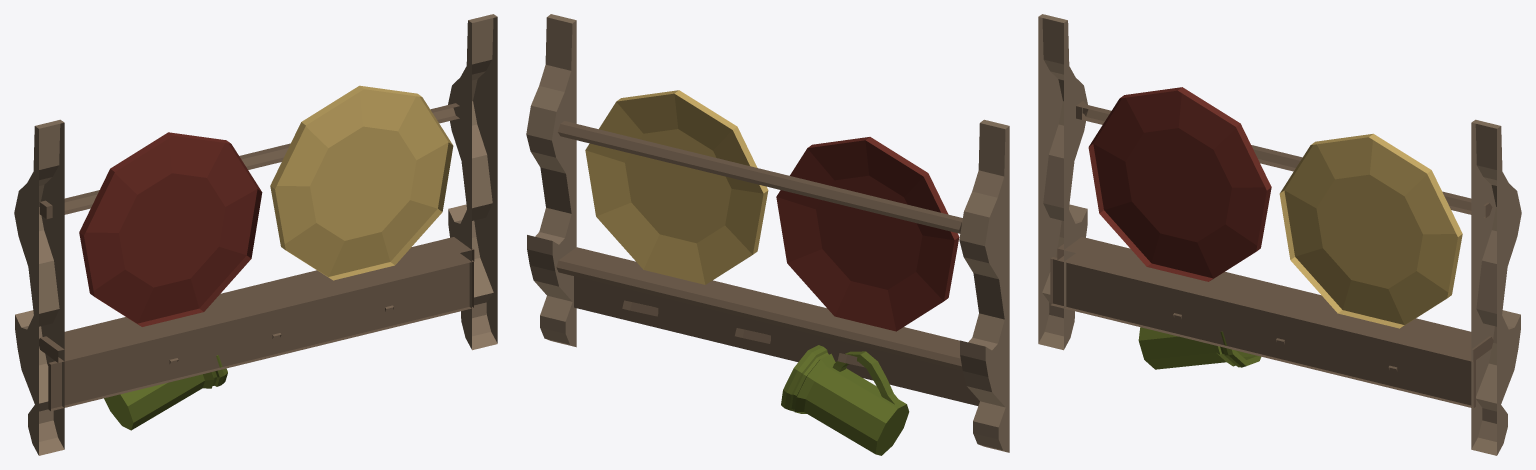
Rendered from EA03_Prop_House_Shelf_01g.glb.
The picture shows the model from 3 angles, left to right: view 1: azimuth 30°, elevation 25°; view 2: azimuth 150°, elevation 25°; view 3: azimuth 330°, elevation 25°; orthographic projection.
Parts seen in each view (by area): view 1: EA03_Prop_House_Shelf_01g; view 2: EA03_Prop_House_Shelf_01g; view 3: EA03_Prop_House_Shelf_01g.
Part boxes in pixels (x1,y1,x2,y2): EA03_Prop_House_Shelf_01g: (14, 14, 497, 455); EA03_Prop_House_Shelf_01g: (526, 14, 1009, 455); EA03_Prop_House_Shelf_01g: (1038, 14, 1521, 455).
Bounding box in the file's own units: 1.57 × 1.11 × 0.2284.
Materials: 1 (1 with a texture image).
